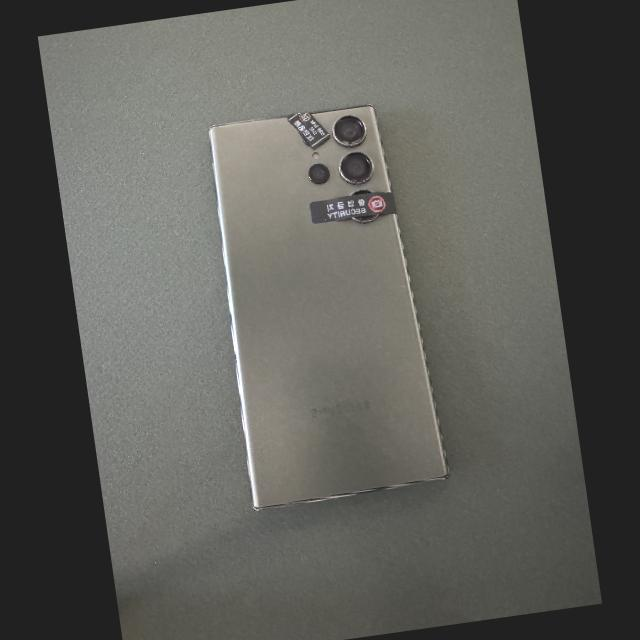lens: (340, 152, 371, 183), (333, 115, 363, 146), (353, 216, 374, 221)
phone: (209, 105, 448, 510)
sticker: (309, 193, 399, 225), (287, 111, 330, 150)
